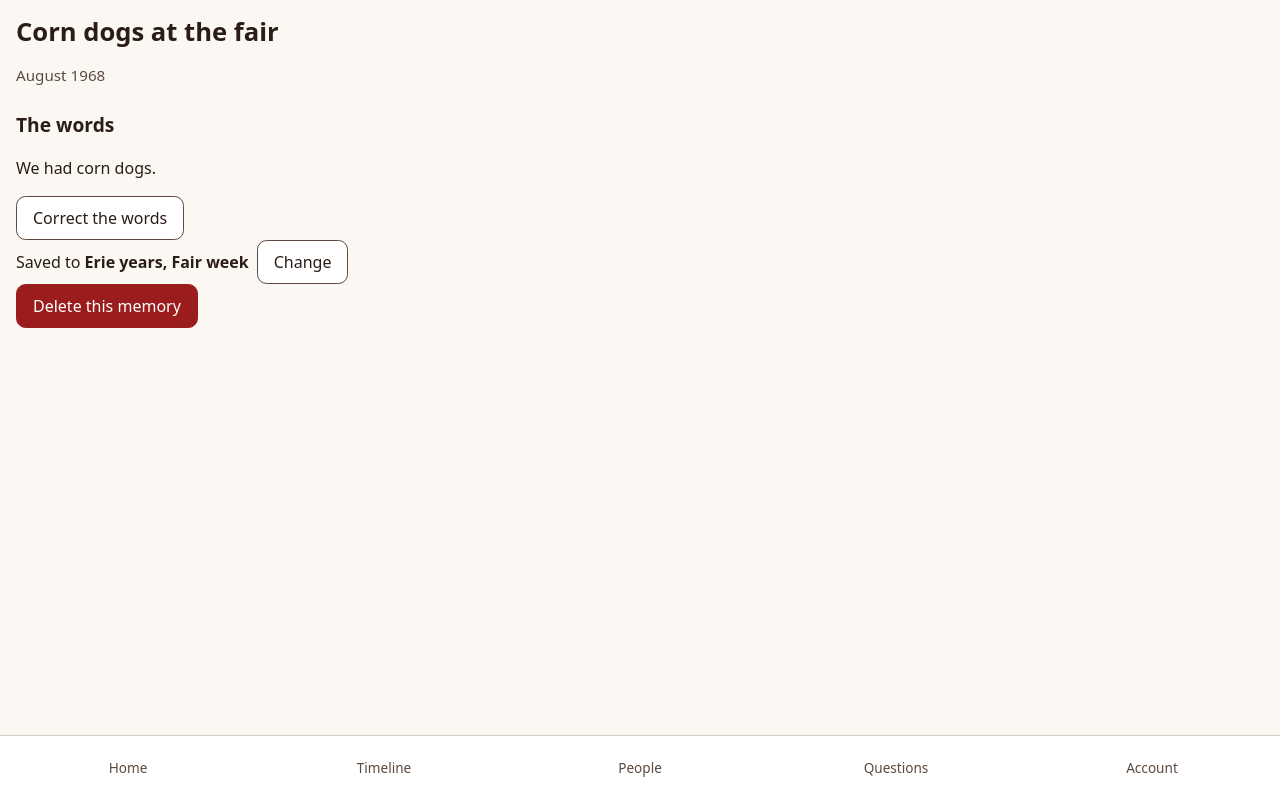
it: a memory says where it was saved and can be moved
The width and height of the screenshot is (1280, 800).
Check: the text "Erie years, Fair week" is shown, box left=84, top=251, right=249, bottom=273
Step 1. Click the button "Change" → (303, 262), box left=257, top=240, right=348, bottom=284
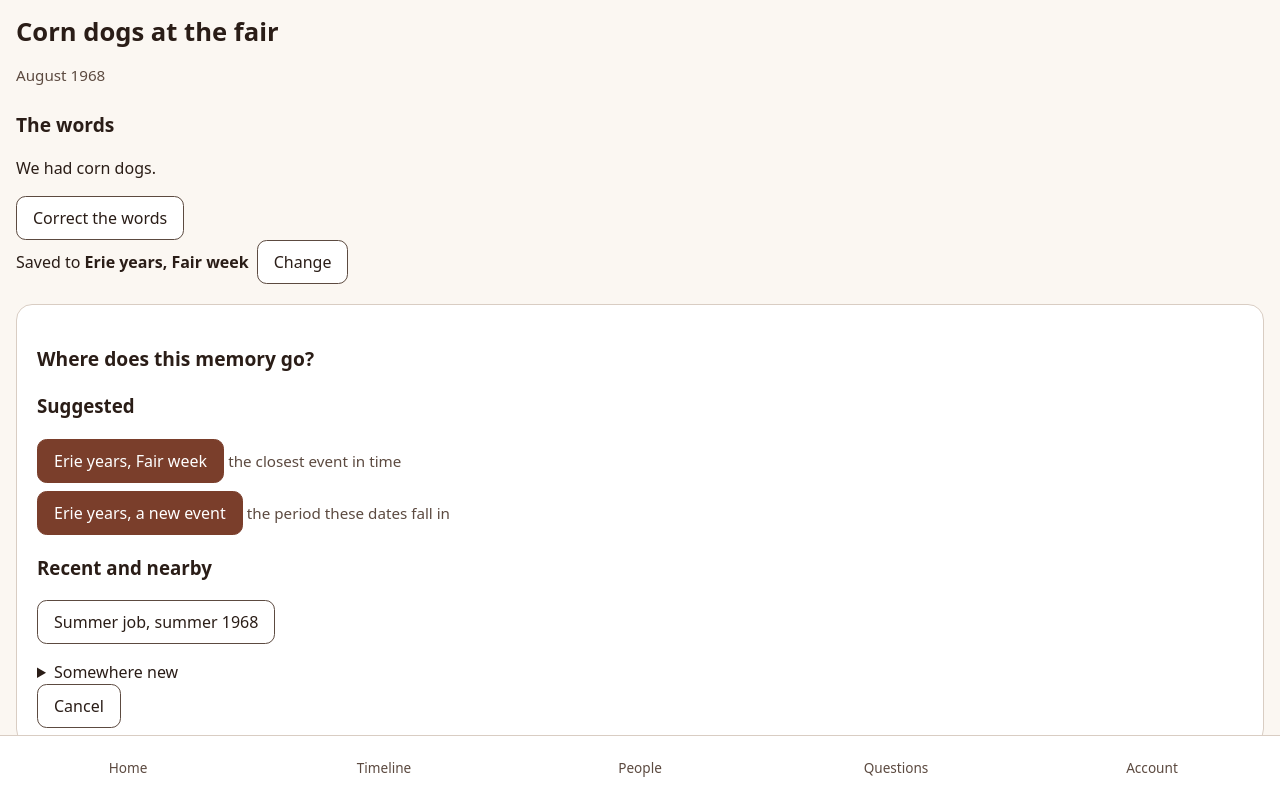
Check: the button "Erie years, Fair week" is shown, box left=37, top=439, right=224, bottom=483
Step 2. Click the button "Summer job, summer 1968" → (156, 622), box left=37, top=600, right=275, bottom=644
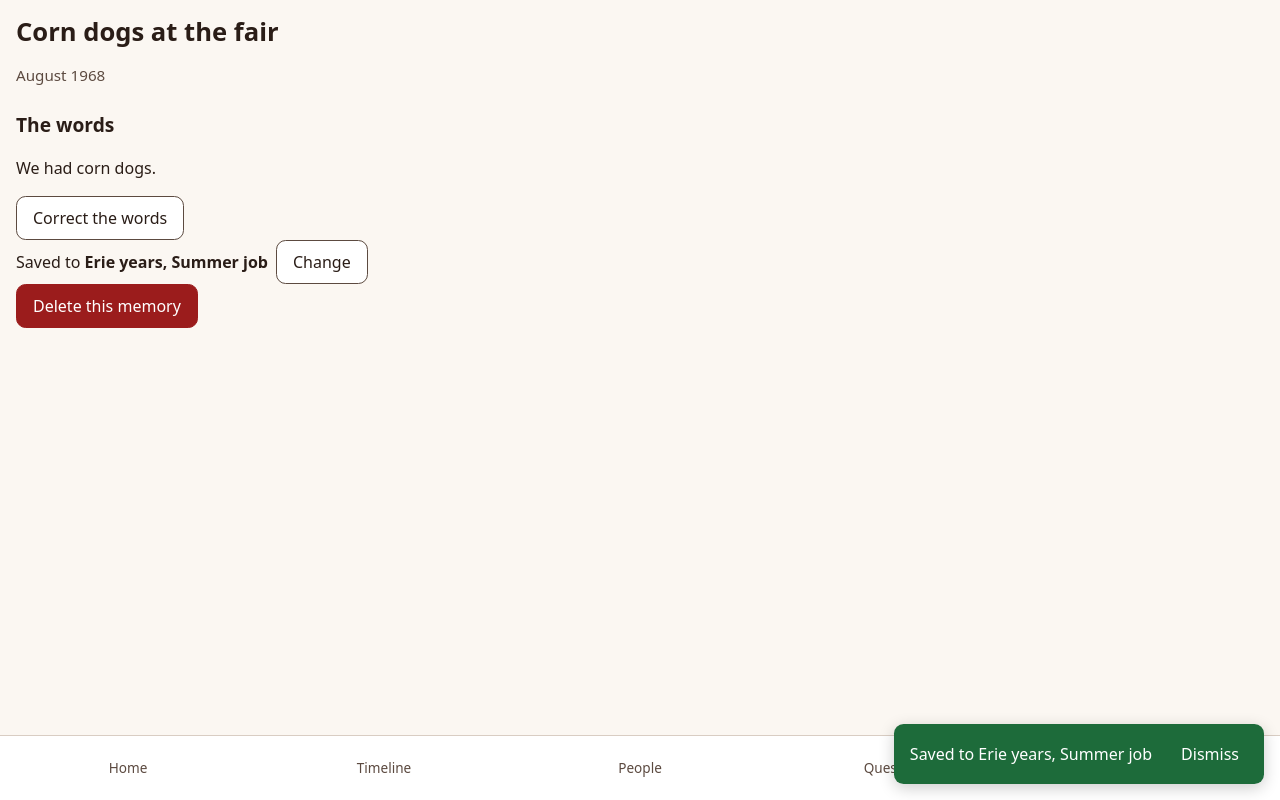
Check: the text "Erie years, Summer job" is shown, box left=84, top=251, right=268, bottom=273
